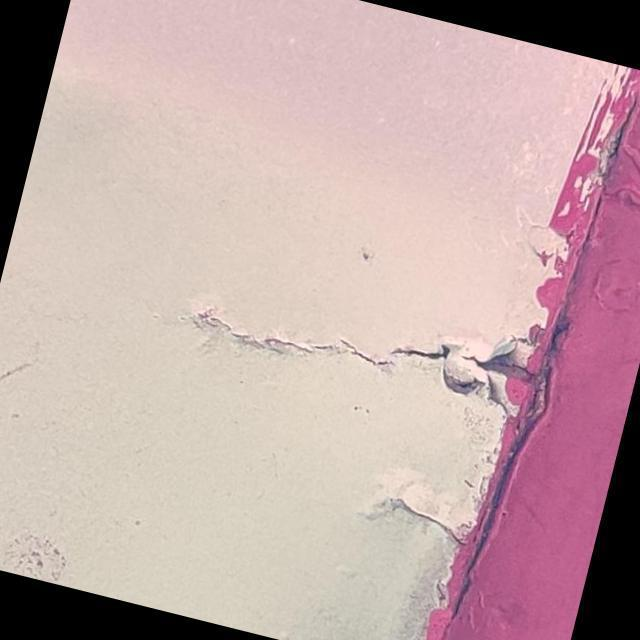Rupture: (162, 232, 574, 446), (369, 466, 497, 566)
